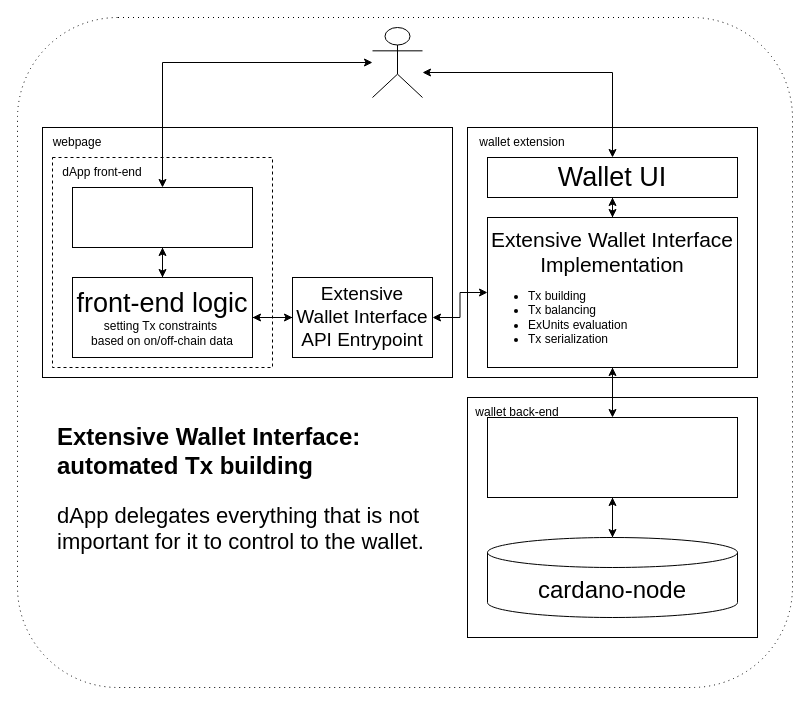
Some shapes in this 810 by 705 pixel diagram are drawn without their labels. The centre of each missing label's shape, as x and y in pixels:
"backend API" belongs at [612,457].
"front-end UI" belongs at [162,217].
"USER" belongs at [397,62].
